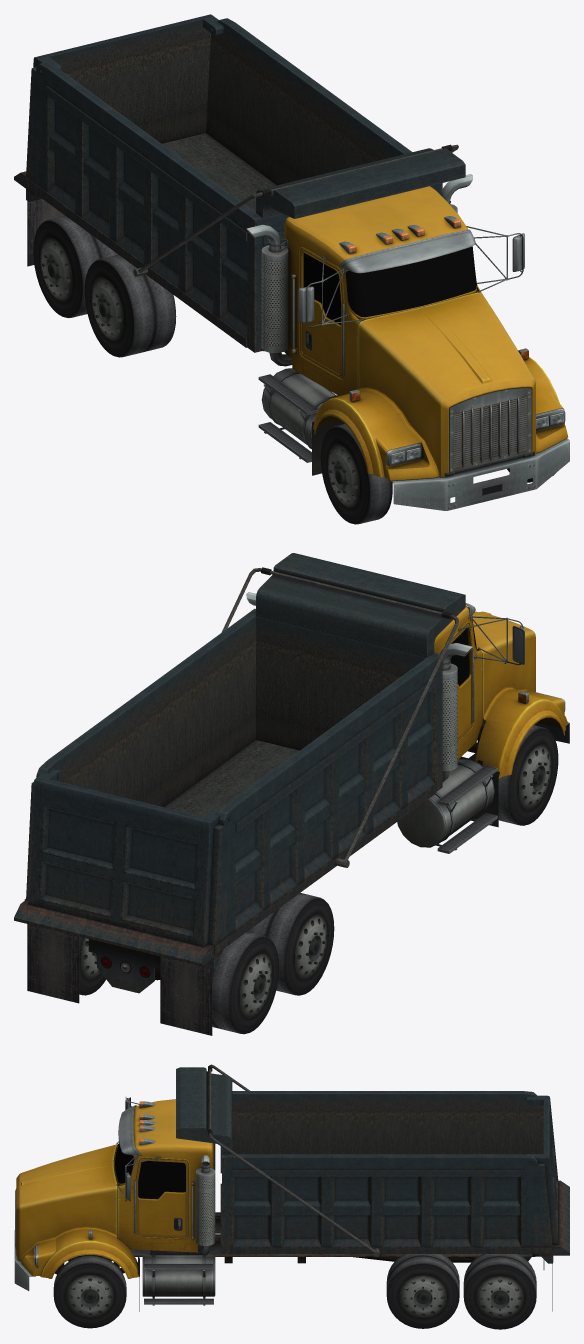
The model's file is Axel.obj.
The picture shows the model from 3 angles, top to bottom: view 1: azimuth 30°, elevation 25°; view 2: azimuth 150°, elevation 25°; view 3: azimuth 270°, elevation 25°; orthographic projection. The views are drawn at different scales.
Visible parts, largest first — view 1: Truck_Truck_Mesh.005, Back_Front_Wheels_Back_Front_Wheel_Mesh.002, Back_Back_Wheels_Main_Wheels_Mesh.004, Front_Wheels_Main_Wheels_Mesh.001; view 2: Truck_Truck_Mesh.005, Back_Back_Wheels_Main_Wheels_Mesh.004, Back_Front_Wheels_Back_Front_Wheel_Mesh.002, Front_Wheels_Main_Wheels_Mesh.001; view 3: Truck_Truck_Mesh.005, Back_Back_Wheels_Main_Wheels_Mesh.004, Back_Front_Wheels_Back_Front_Wheel_Mesh.002, Front_Wheels_Main_Wheels_Mesh.001.
Boxes of the visible parts, <box> form: Truck_Truck_Mesh.005: <box>14,14,569,510</box>; Back_Front_Wheels_Back_Front_Wheel_Mesh.002: <box>84,254,176,357</box>; Back_Back_Wheels_Main_Wheels_Mesh.004: <box>33,215,117,318</box>; Front_Wheels_Main_Wheels_Mesh.001: <box>320,424,555,524</box>; Truck_Truck_Mesh.005: <box>14,553,569,1035</box>; Back_Back_Wheels_Main_Wheels_Mesh.004: <box>79,931,279,1034</box>; Back_Front_Wheels_Back_Front_Wheel_Mesh.002: <box>247,893,334,995</box>; Front_Wheels_Main_Wheels_Mesh.001: <box>498,725,558,825</box>; Truck_Truck_Mesh.005: <box>14,1064,569,1311</box>; Back_Back_Wheels_Main_Wheels_Mesh.004: <box>463,1254,536,1329</box>; Back_Front_Wheels_Back_Front_Wheel_Mesh.002: <box>386,1254,459,1328</box>; Front_Wheels_Main_Wheels_Mesh.001: <box>53,1255,126,1328</box>.
Size of the model in its own units: 2.63 by 3.02 by 7.74.
